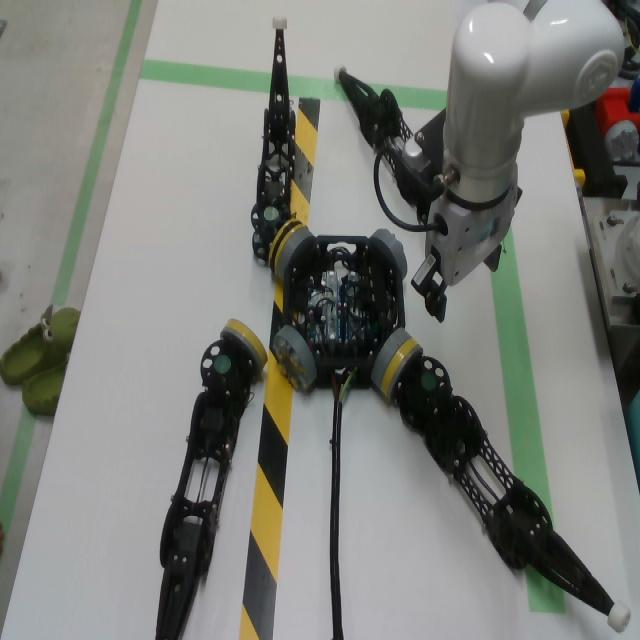body: (283, 236, 405, 391)
body_connector: (273, 325, 318, 392), (371, 328, 412, 389), (276, 227, 315, 279), (370, 229, 407, 280)
gripper: (410, 164, 518, 324)
leg: (381, 338, 633, 635), (155, 318, 267, 640), (250, 13, 304, 275), (333, 63, 413, 151), (385, 153, 432, 227)
leg_connector: (219, 319, 268, 375), (381, 339, 424, 401), (268, 219, 304, 273)
leg_marker: (215, 355, 231, 373), (421, 372, 436, 391), (264, 207, 279, 221)
